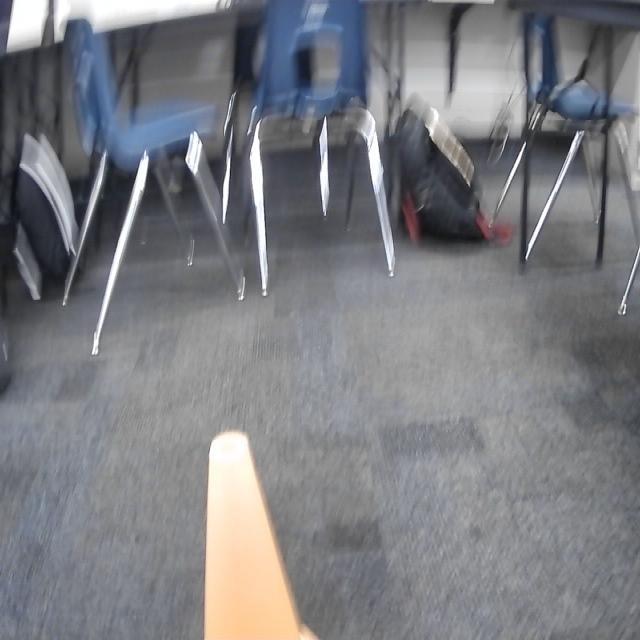cone: (188, 425, 324, 640)
